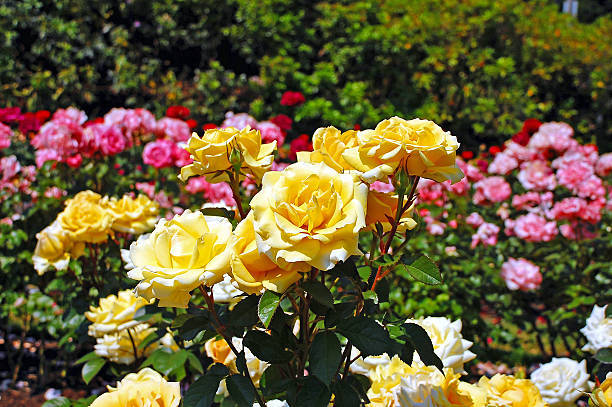Rose: (255, 162, 357, 258), (123, 219, 230, 296), (371, 118, 451, 182), (186, 126, 270, 172), (529, 359, 586, 396), (70, 199, 108, 235), (500, 257, 539, 289), (145, 140, 170, 167)
